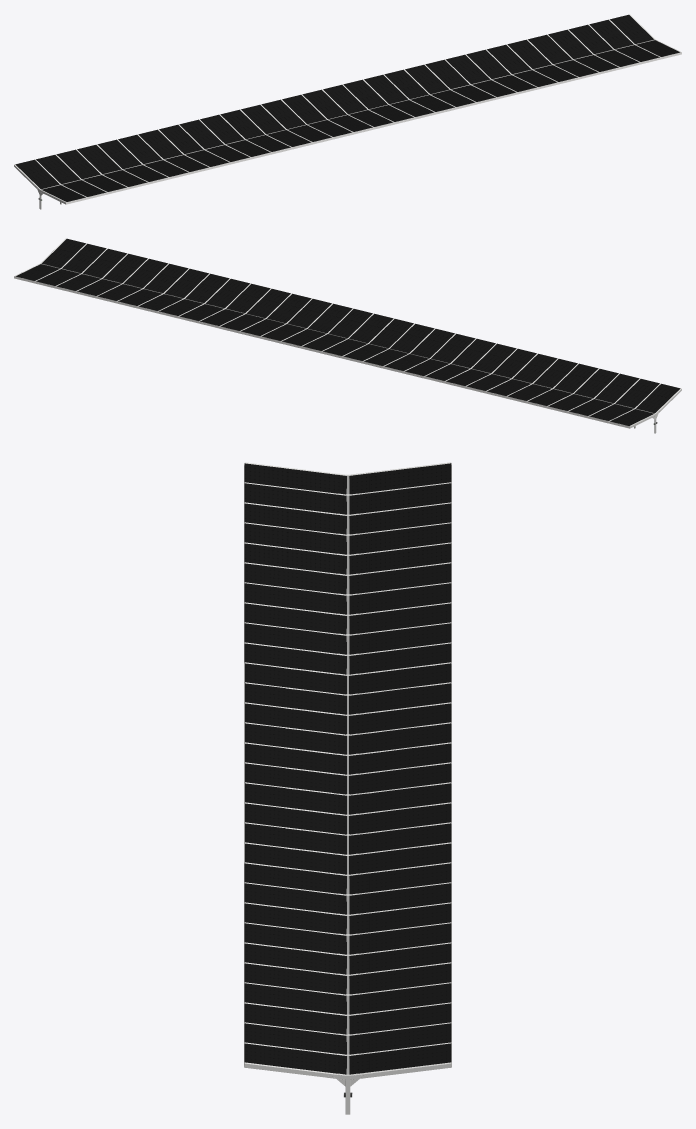
Rendered from Pac_60.glb.
The picture shows the model from 3 angles, top to bottom: view 1: azimuth 30°, elevation 25°; view 2: azimuth 150°, elevation 25°; view 3: azimuth 270°, elevation 25°; orthographic projection. The views are drawn at different scales.
Parts seen in each view (by area): view 1: Left.050; view 2: Left.050; view 3: Left.050.
Part boxes in pixels (x1,y1,x2,y2): Left.050: [14, 14, 681, 209]; Left.050: [14, 238, 681, 433]; Left.050: [244, 462, 451, 1114].
Bounding box in the file's own units: 79.13 × 3.15 × 11.56.
30 materials, 25 textured.
